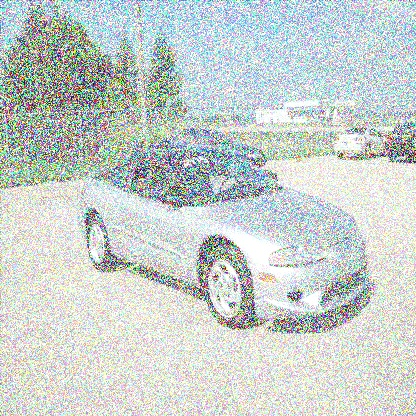Vehicle: (80, 148, 374, 348)
